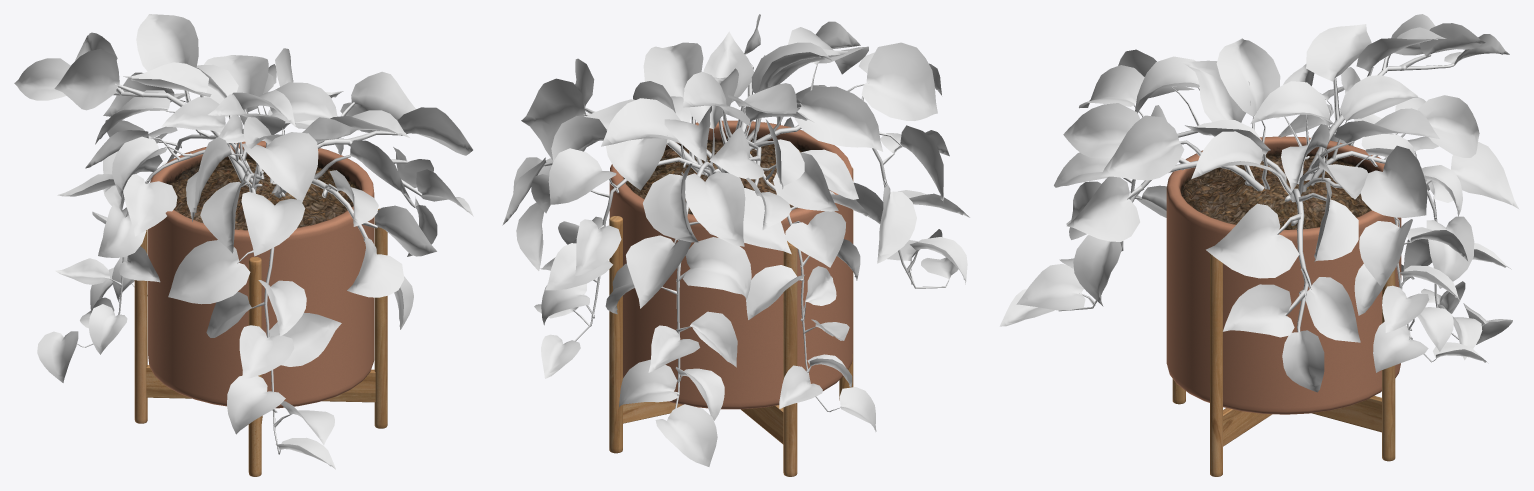
File: POTHOS.fbx
3 views of the same model, side by side, from view 1: azimuth 30°, elevation 25°; view 2: azimuth 150°, elevation 25°; view 3: azimuth 270°, elevation 25° (orthographic). The views are drawn at different scales.
Visible parts, largest first — view 1: POTHOS, POT_WOOD_LEGS; view 2: POTHOS, POT_WOOD_LEGS; view 3: POTHOS, POT_WOOD_LEGS.
Part boxes in pixels (x1,y1,x2,y2): POTHOS: (14,14,473,469); POT_WOOD_LEGS: (134,141,387,476); POTHOS: (502,14,969,466); POT_WOOD_LEGS: (609,120,853,476); POTHOS: (999,14,1519,392); POT_WOOD_LEGS: (1166,136,1401,476).
Bounding box in the file's own units: 82.65 × 79.16 × 97.41.
